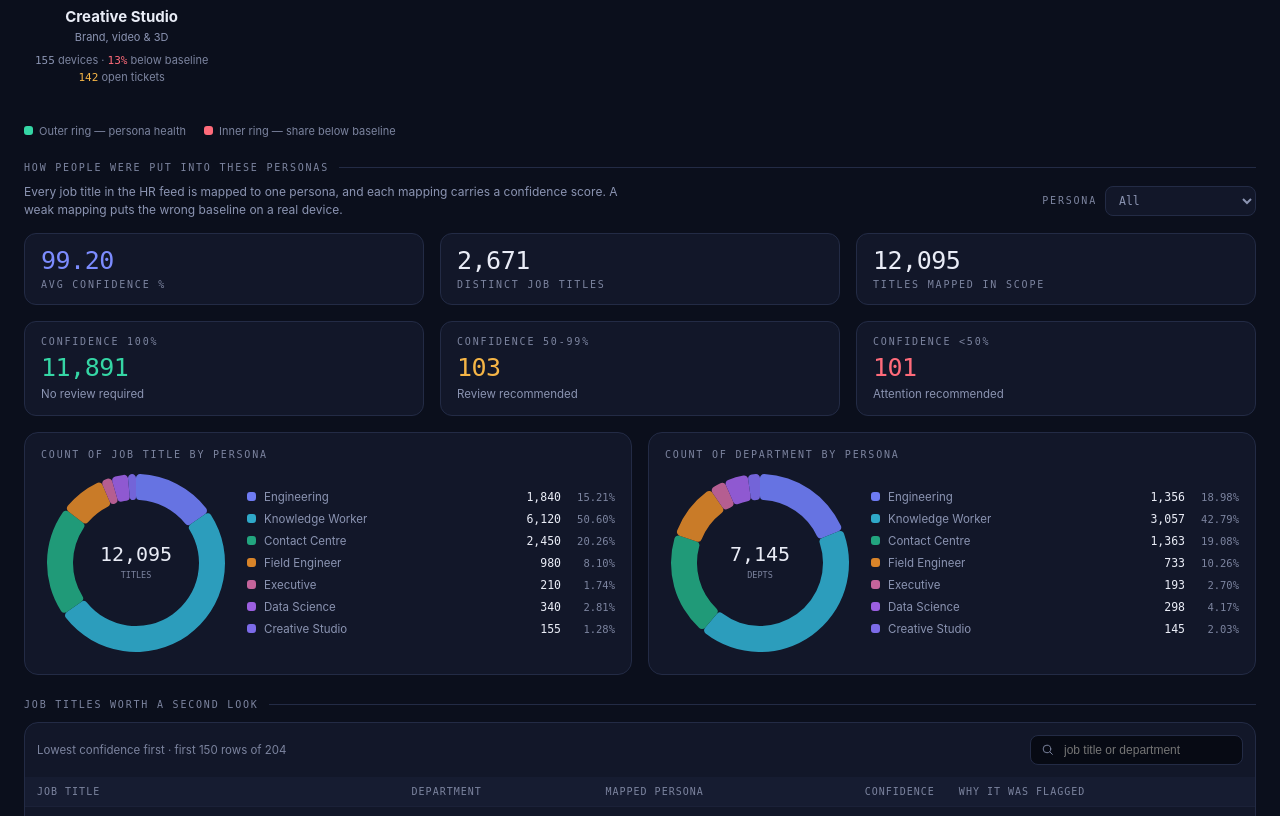
Scenario: review queue › shows 100% titles with no reason when that band is selected
(page scrolled)
expect the element named "Confidence bands" is shown: met, box [24,321,1256,416]
Click the button "Confidence 100% 11,891 No review required" at (100, 341), box [24,321,424,416]
(page scrolled)
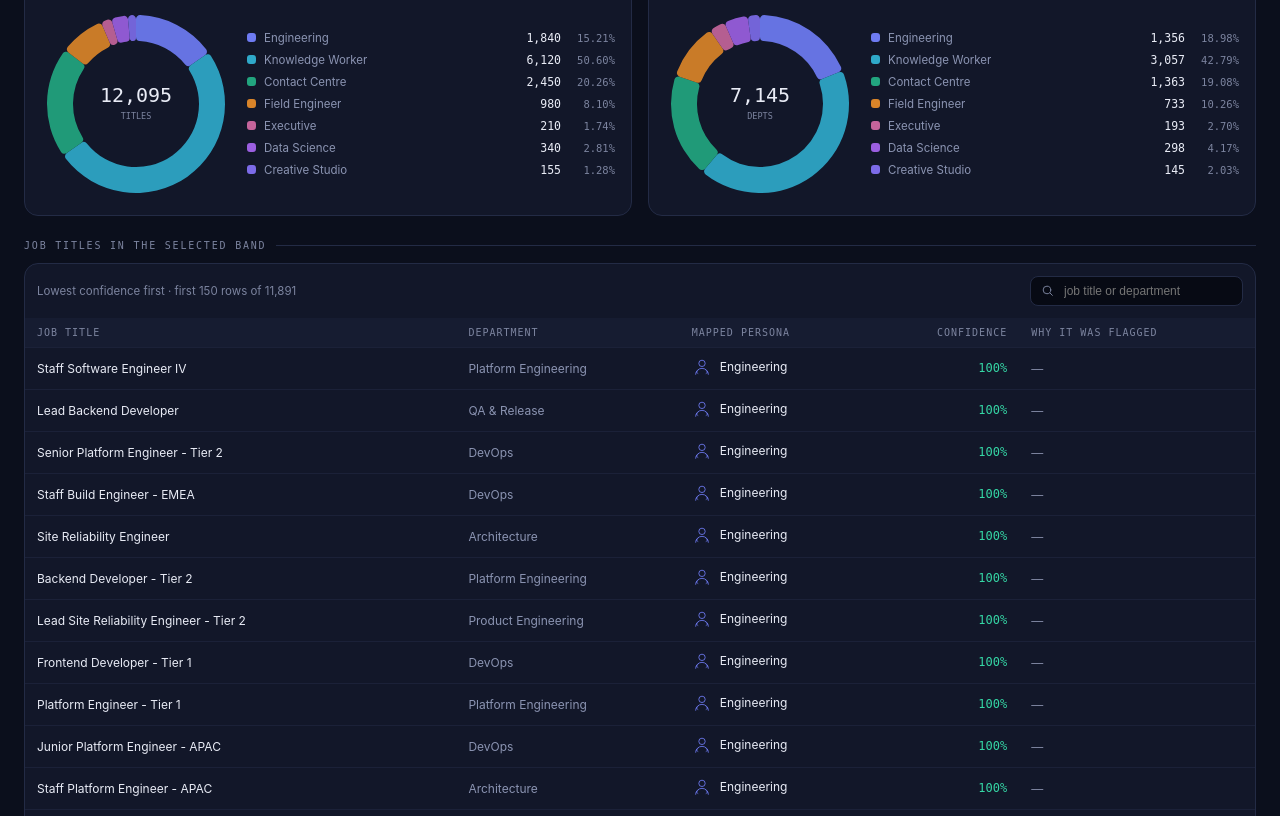
expect the cell "100%" in the row of "Staff Software Engineer IV" is shown: met, box [872,347,1019,389]
expect the cell "—" in the row of "Staff Software Engineer IV" is shown: met, box [1031,361,1043,376]
